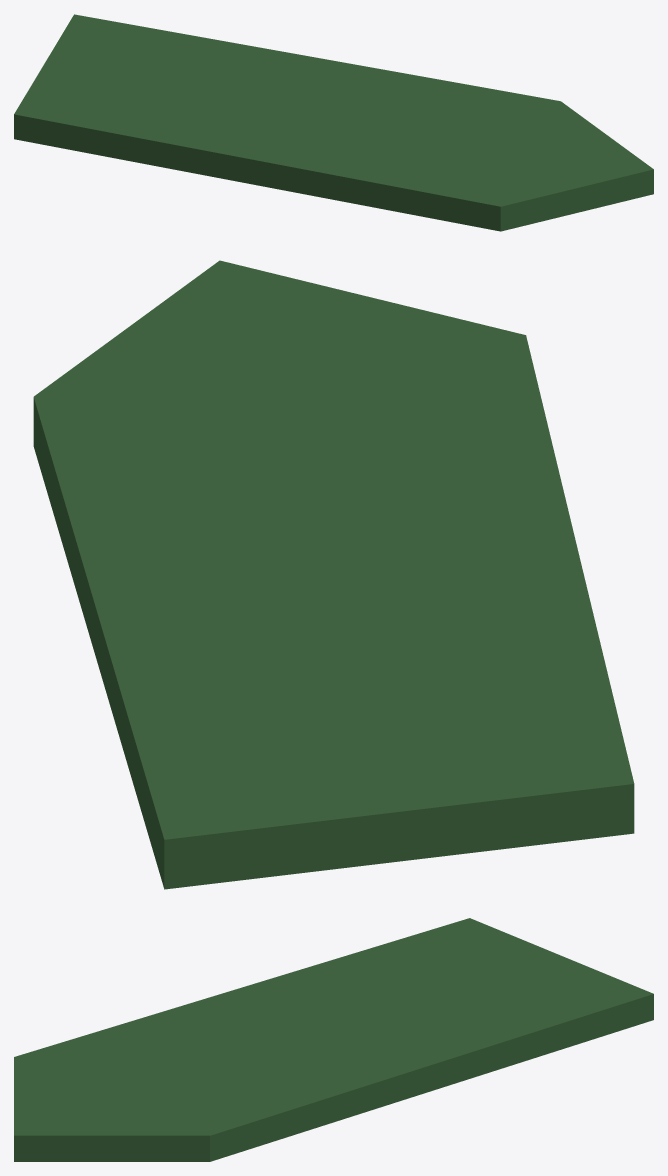
The model's file is x_proval_00_77_1_rmstrd.fbx.
3 views of the same model, one above another, from view 1: azimuth 30°, elevation 25°; view 2: azimuth 150°, elevation 25°; view 3: azimuth 270°, elevation 25° (orthographic). The views are drawn at different scales.
Visible parts, largest first — view 1: x_proval_00_77_1_rmstrd1; view 2: x_proval_00_77_1_rmstrd1; view 3: x_proval_00_77_1_rmstrd1.
Boxes of the visible parts, x1,y1,x2,y2 form: x_proval_00_77_1_rmstrd1: [14, 14, 653, 231]; x_proval_00_77_1_rmstrd1: [33, 260, 634, 889]; x_proval_00_77_1_rmstrd1: [14, 918, 653, 1161].
Size of the model in its own units: 3.57 by 0.2 by 4.43.
